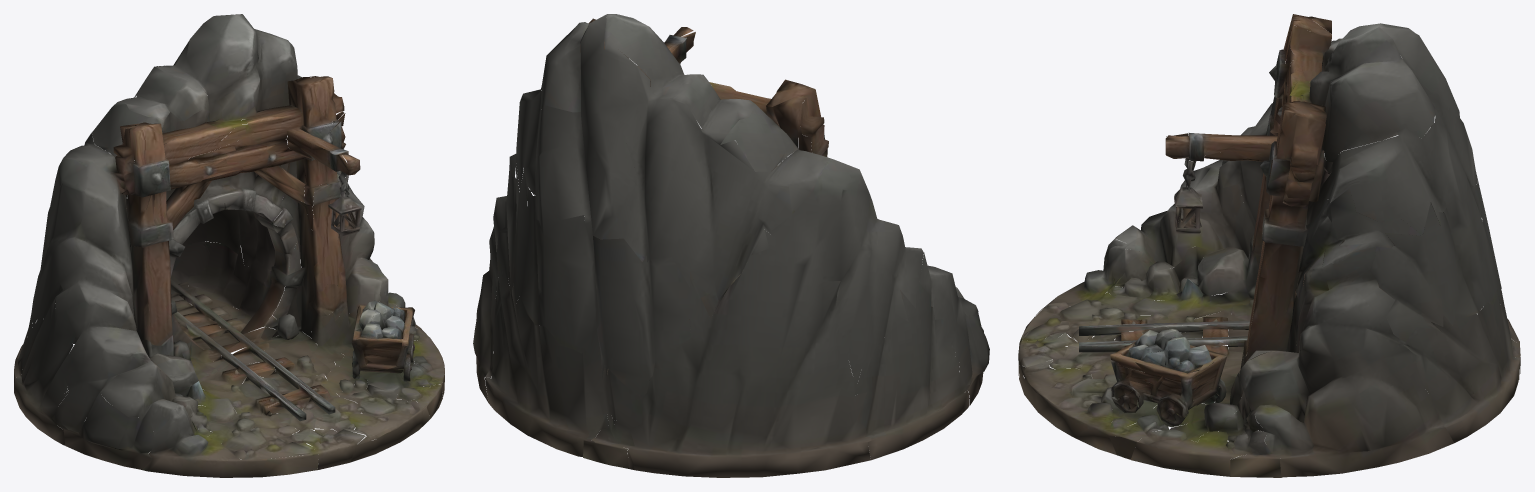
File: mina482.glb
The picture shows the model from 3 angles, left to right: view 1: azimuth 30°, elevation 25°; view 2: azimuth 150°, elevation 25°; view 3: azimuth 270°, elevation 25°; orthographic projection. The views are drawn at different scales.
Visible parts, largest first — view 1: tripo_node_19321d60-571d-4c72-83ec-7dd52c83c8d2; view 2: tripo_node_19321d60-571d-4c72-83ec-7dd52c83c8d2; view 3: tripo_node_19321d60-571d-4c72-83ec-7dd52c83c8d2.
Boxes of the visible parts, x1=… form: tripo_node_19321d60-571d-4c72-83ec-7dd52c83c8d2: x1=14, y1=14, x2=444, y2=477; tripo_node_19321d60-571d-4c72-83ec-7dd52c83c8d2: x1=473, y1=14, x2=989, y2=477; tripo_node_19321d60-571d-4c72-83ec-7dd52c83c8d2: x1=1018, y1=14, x2=1520, y2=477.
Size of the model in its own units: 0.9796 by 0.8129 by 0.9792.
Materials: 1 (1 with a texture image).
